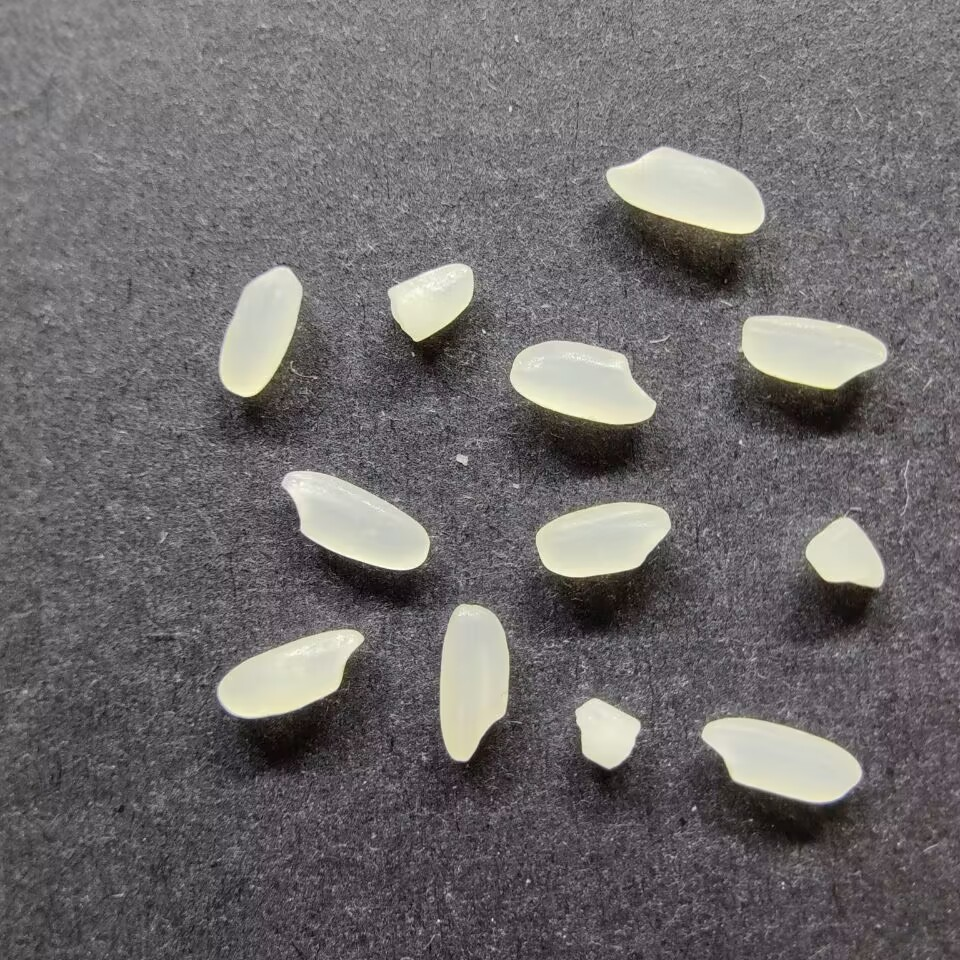broken: (386, 261, 473, 342), (804, 516, 885, 590), (574, 697, 639, 770)
rice: (280, 469, 428, 570), (700, 715, 862, 804), (604, 145, 765, 234), (216, 627, 364, 719), (508, 340, 657, 425), (437, 603, 509, 762), (218, 264, 302, 398), (740, 314, 888, 390), (534, 501, 671, 578)
